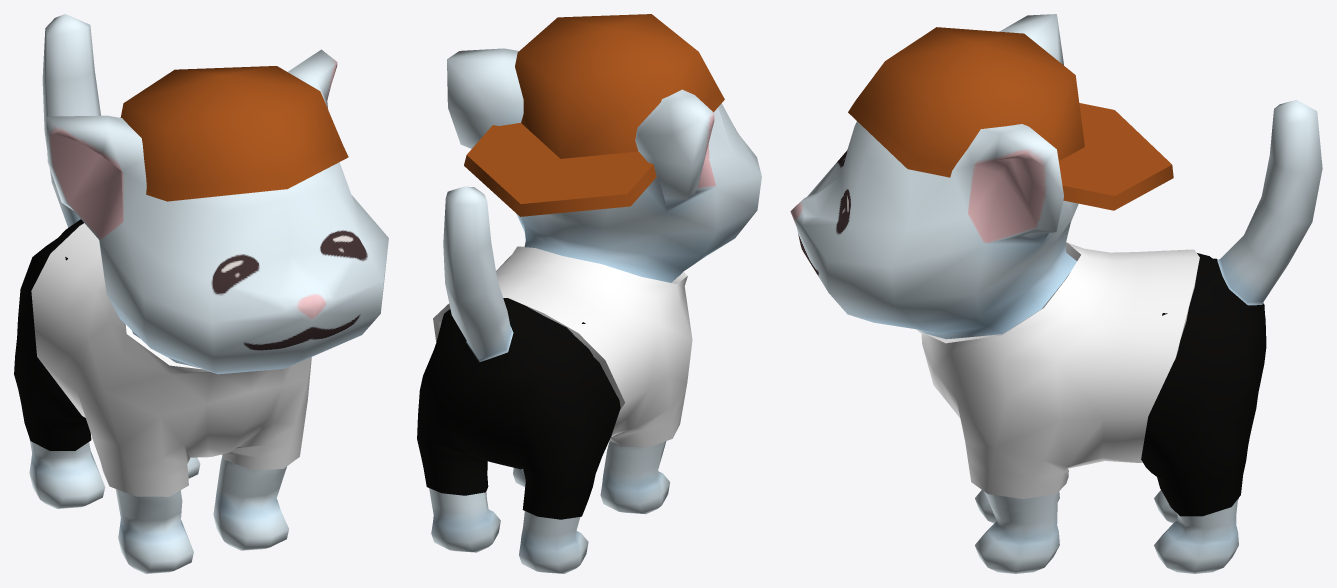
File: Dancer Cat05.fbx
The picture shows the model from 3 angles, left to right: view 1: azimuth 30°, elevation 25°; view 2: azimuth 150°, elevation 25°; view 3: azimuth 270°, elevation 25°; orthographic projection. The views are drawn at different scales.
Visible parts, largest first — view 1: Cat_Base004, Dancer_Cat_Shirt, Dancer_Cat_Hat, Dancer_Cat_Shorts; view 2: Cat_Base004, Dancer_Cat_Hat, Dancer_Cat_Shorts, Dancer_Cat_Shirt; view 3: Cat_Base004, Dancer_Cat_Shirt, Dancer_Cat_Hat, Dancer_Cat_Shorts.
Part boxes in pixels (x1,y1,x2,y2): Cat_Base004: [29, 14, 388, 573]; Dancer_Cat_Shirt: [31, 223, 311, 496]; Dancer_Cat_Hat: [120, 66, 348, 201]; Dancer_Cat_Shorts: [14, 219, 91, 450]; Cat_Base004: [429, 48, 761, 573]; Dancer_Cat_Hat: [464, 14, 724, 216]; Dancer_Cat_Shorts: [417, 298, 620, 519]; Dancer_Cat_Shirt: [433, 246, 692, 447]; Cat_Base004: [790, 14, 1322, 573]; Dancer_Cat_Shirt: [916, 242, 1199, 498]; Dancer_Cat_Hat: [848, 27, 1173, 210]; Dancer_Cat_Shorts: [1141, 253, 1266, 516].
Size of the model in its own units: 1.75 by 2.83 by 2.9.
4 materials, 1 textured.
